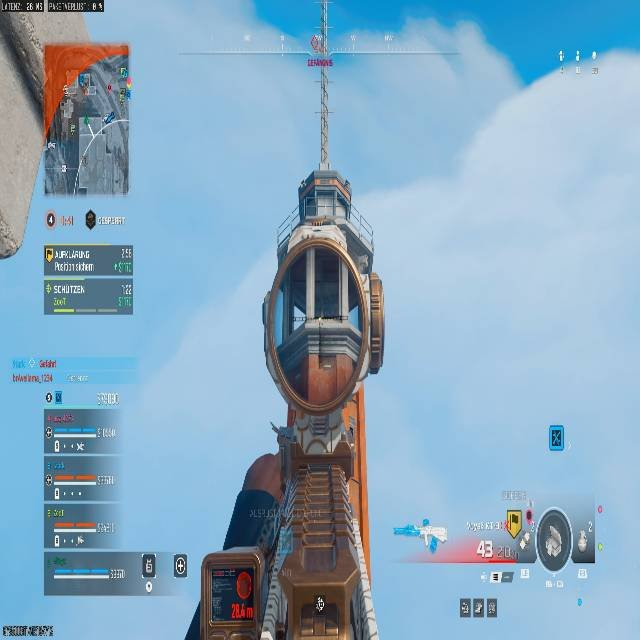head: (259, 181, 382, 448)
player: (121, 167, 413, 640)
